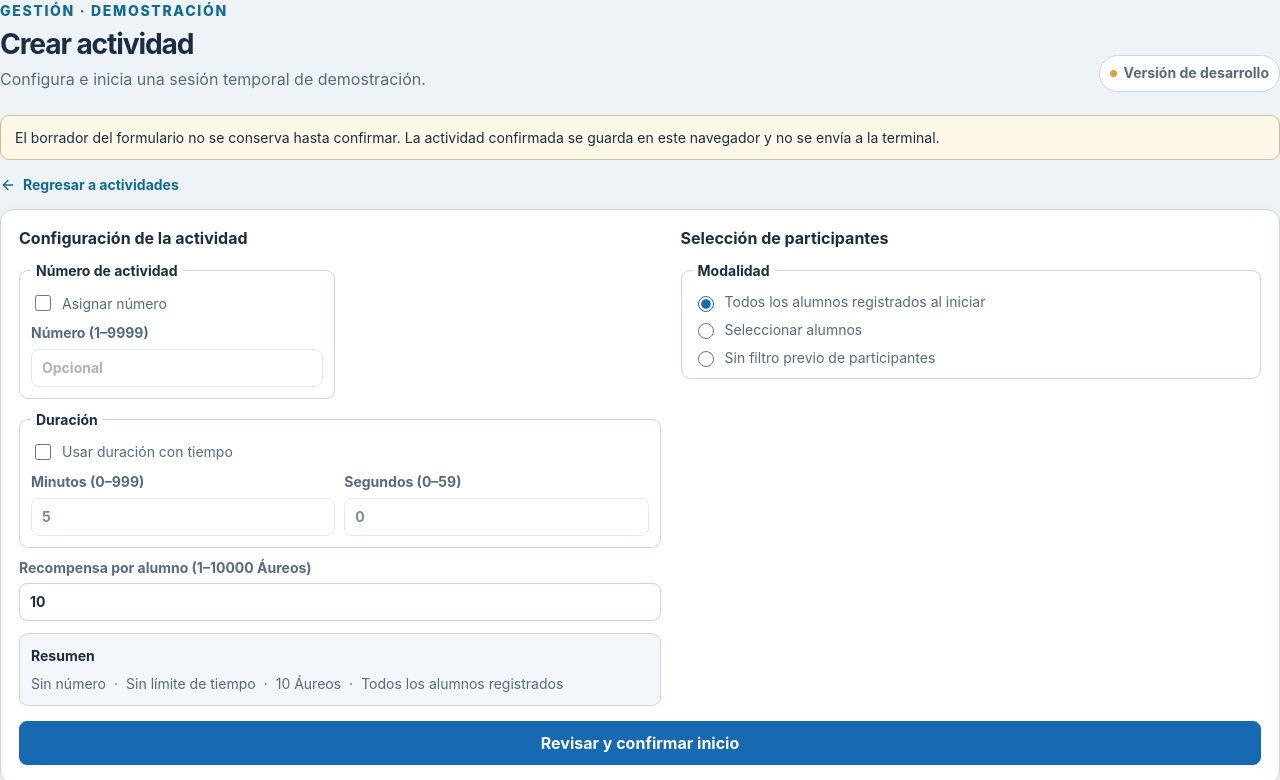
Test: PM.6 interfaz de actividades › bloquea una selección vacía y conserva la selección manual al cambiar de modalidad
Step 1. Click the radio button labelled "Seleccionar alumnos" → (706, 331), box [698, 323, 714, 339]
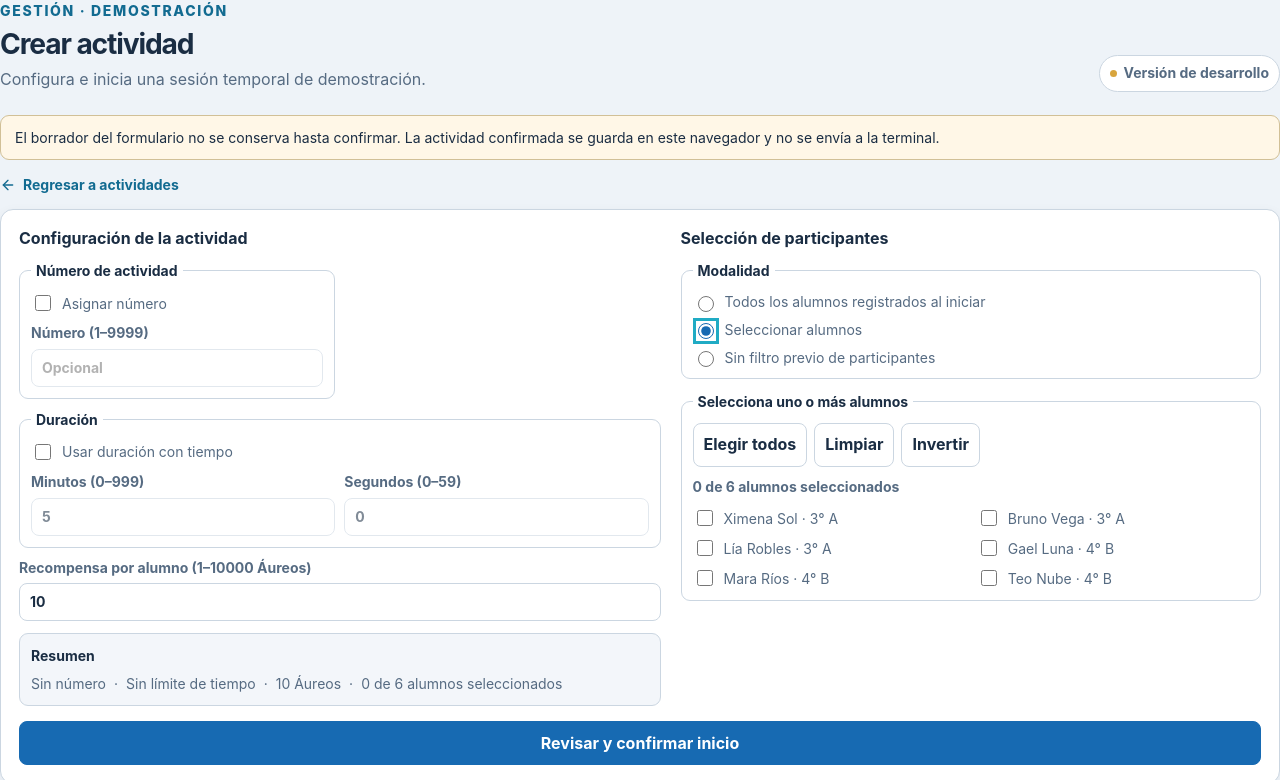
Step 2. Click the button "Revisar y confirmar inicio" → (640, 743), box [19, 721, 1261, 765]
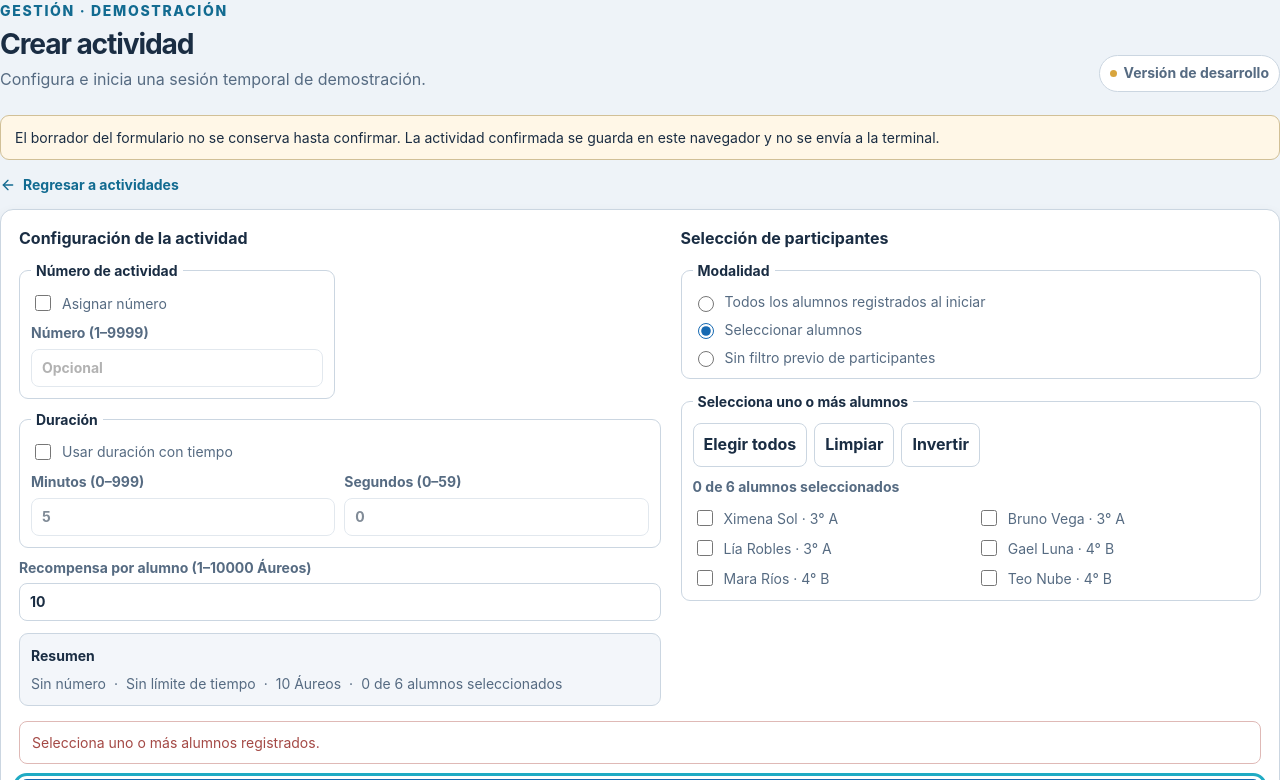
Expected: the message "Selecciona uno o más alumnos registrados." is shown, [19, 721, 1261, 764]
Step 3. Click the checkbox labelled "Ximena Sol · 3° A" → (704, 518), box [696, 510, 712, 526]
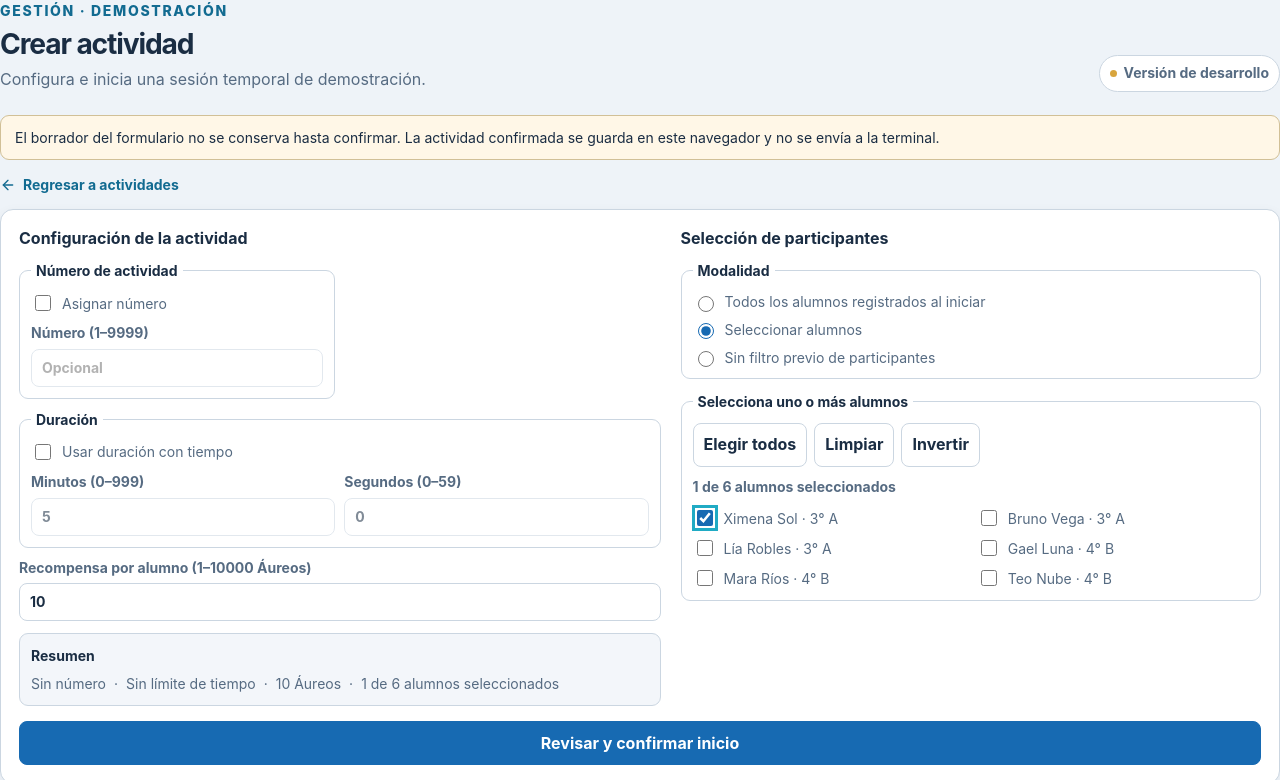
Step 4. Click the radio button labelled "Todos los alumnos registrados al iniciar" → (706, 304), box [698, 296, 714, 312]
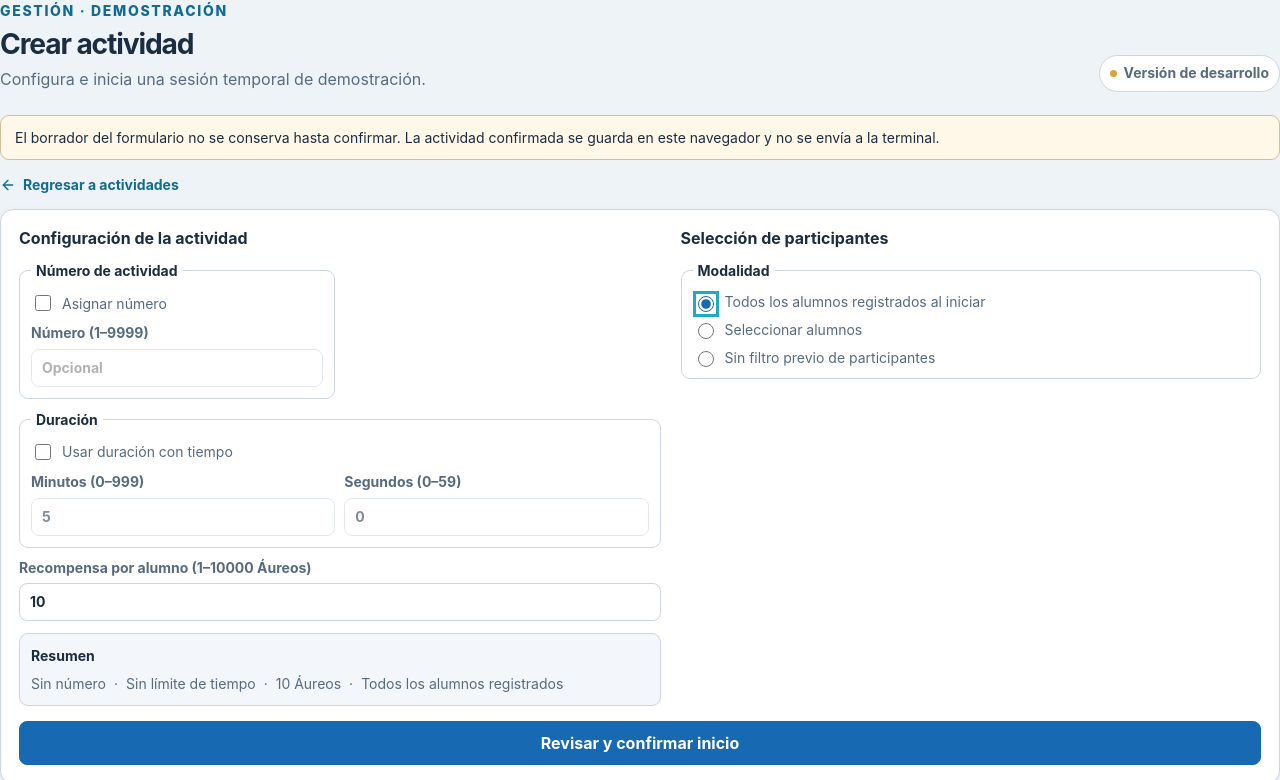
Expected: the label "Ximena Sol" is gone
Step 5. Click the radio button labelled "Sin filtro previo de participantes" → (706, 359), box [698, 351, 714, 367]
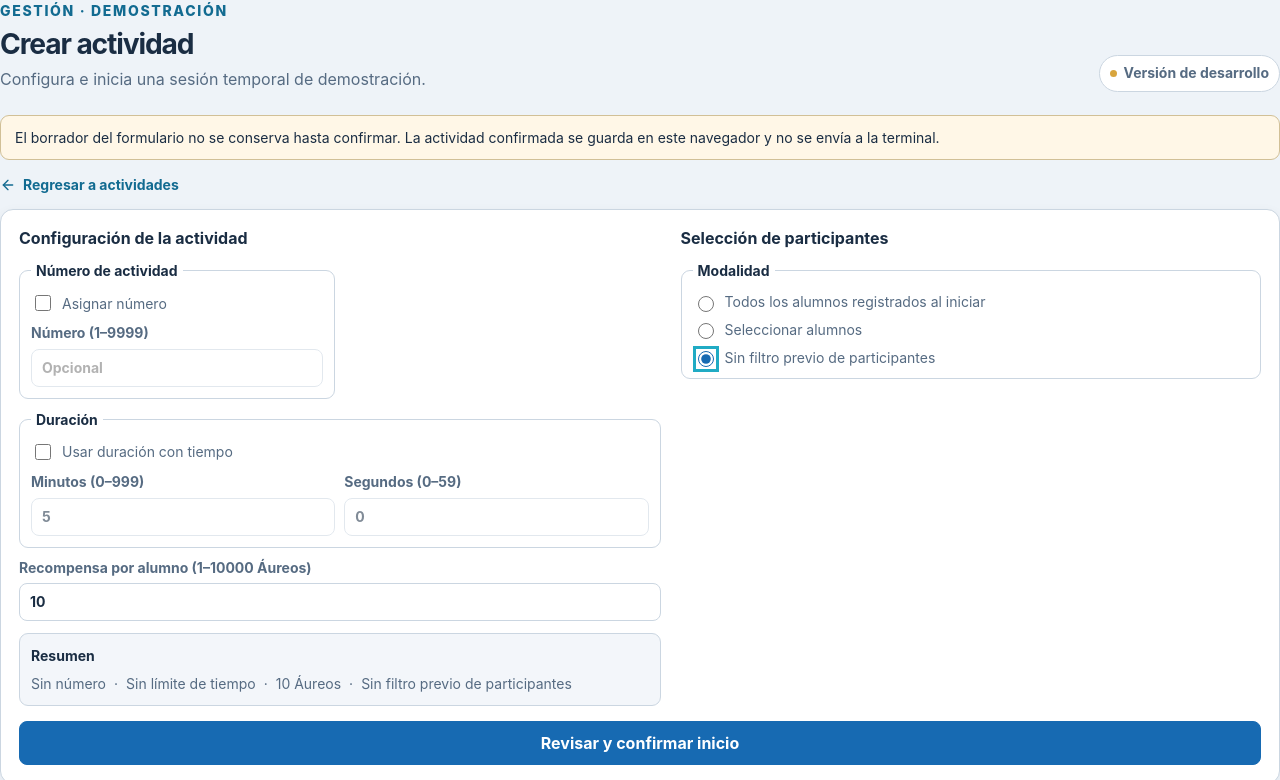
Step 6. Click the radio button labelled "Seleccionar alumnos" → (706, 331), box [698, 323, 714, 339]
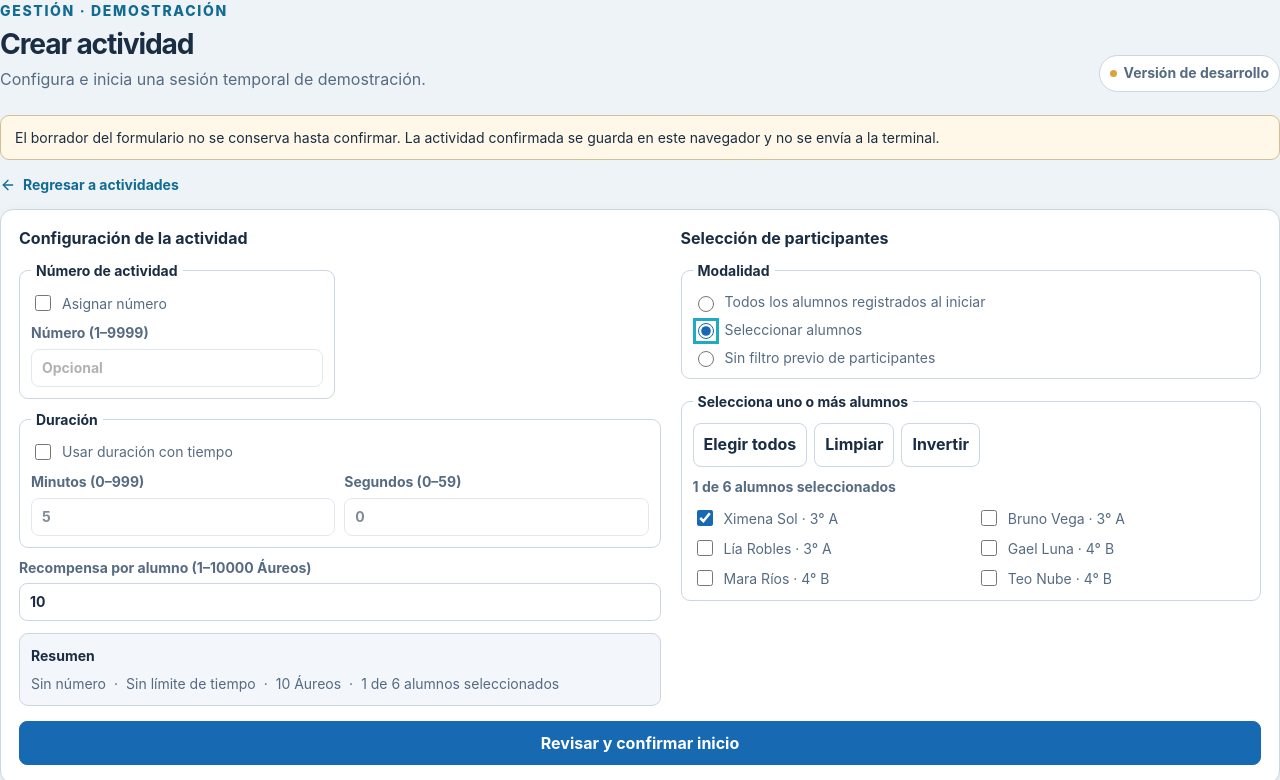
Expected: the checkbox labelled "Ximena Sol · 3° A" is checked, [696, 510, 712, 526]
Expected: the message reads "1 de 6 alumnos seleccionados", [692, 478, 896, 495]
